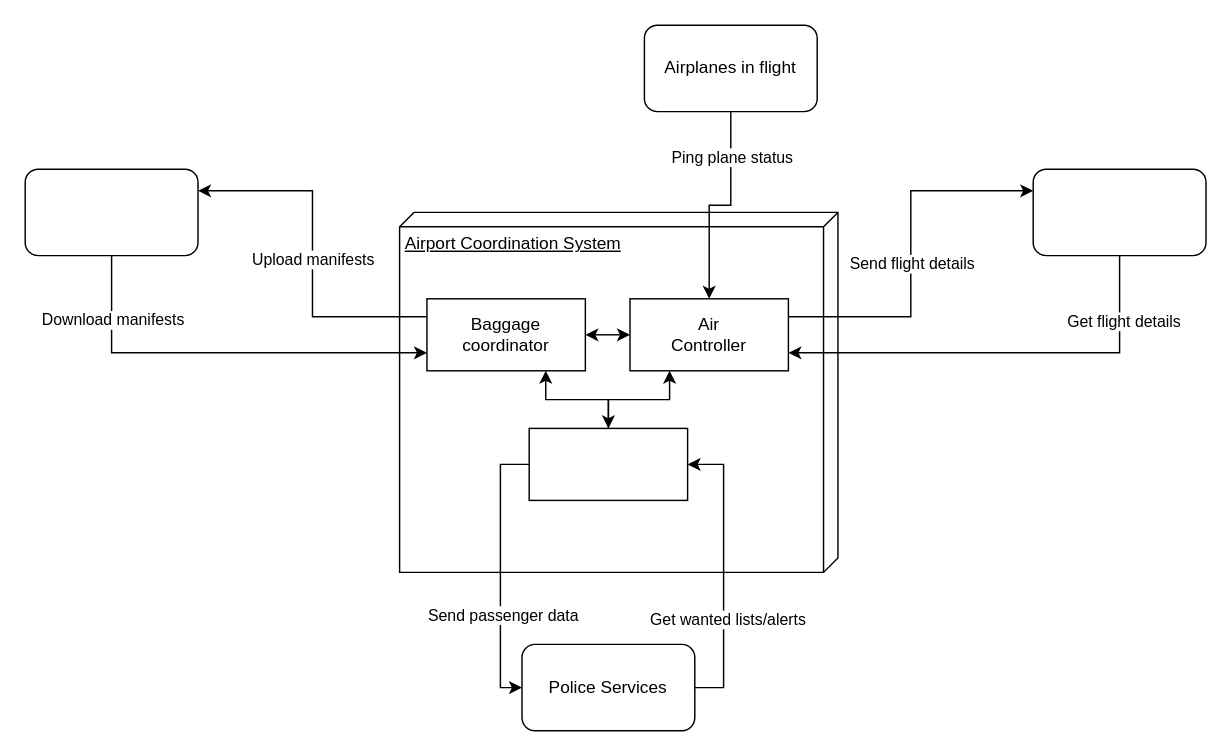
This 1231x756 diagram has some shape labels left out. Here are the shapes that lost their labels. From the top down, the centre of each, then its label:
the point at 111,212: Airline Manifest Database
the point at 1119,212: Central Flight Registry
the point at 608,463: Central Security System
